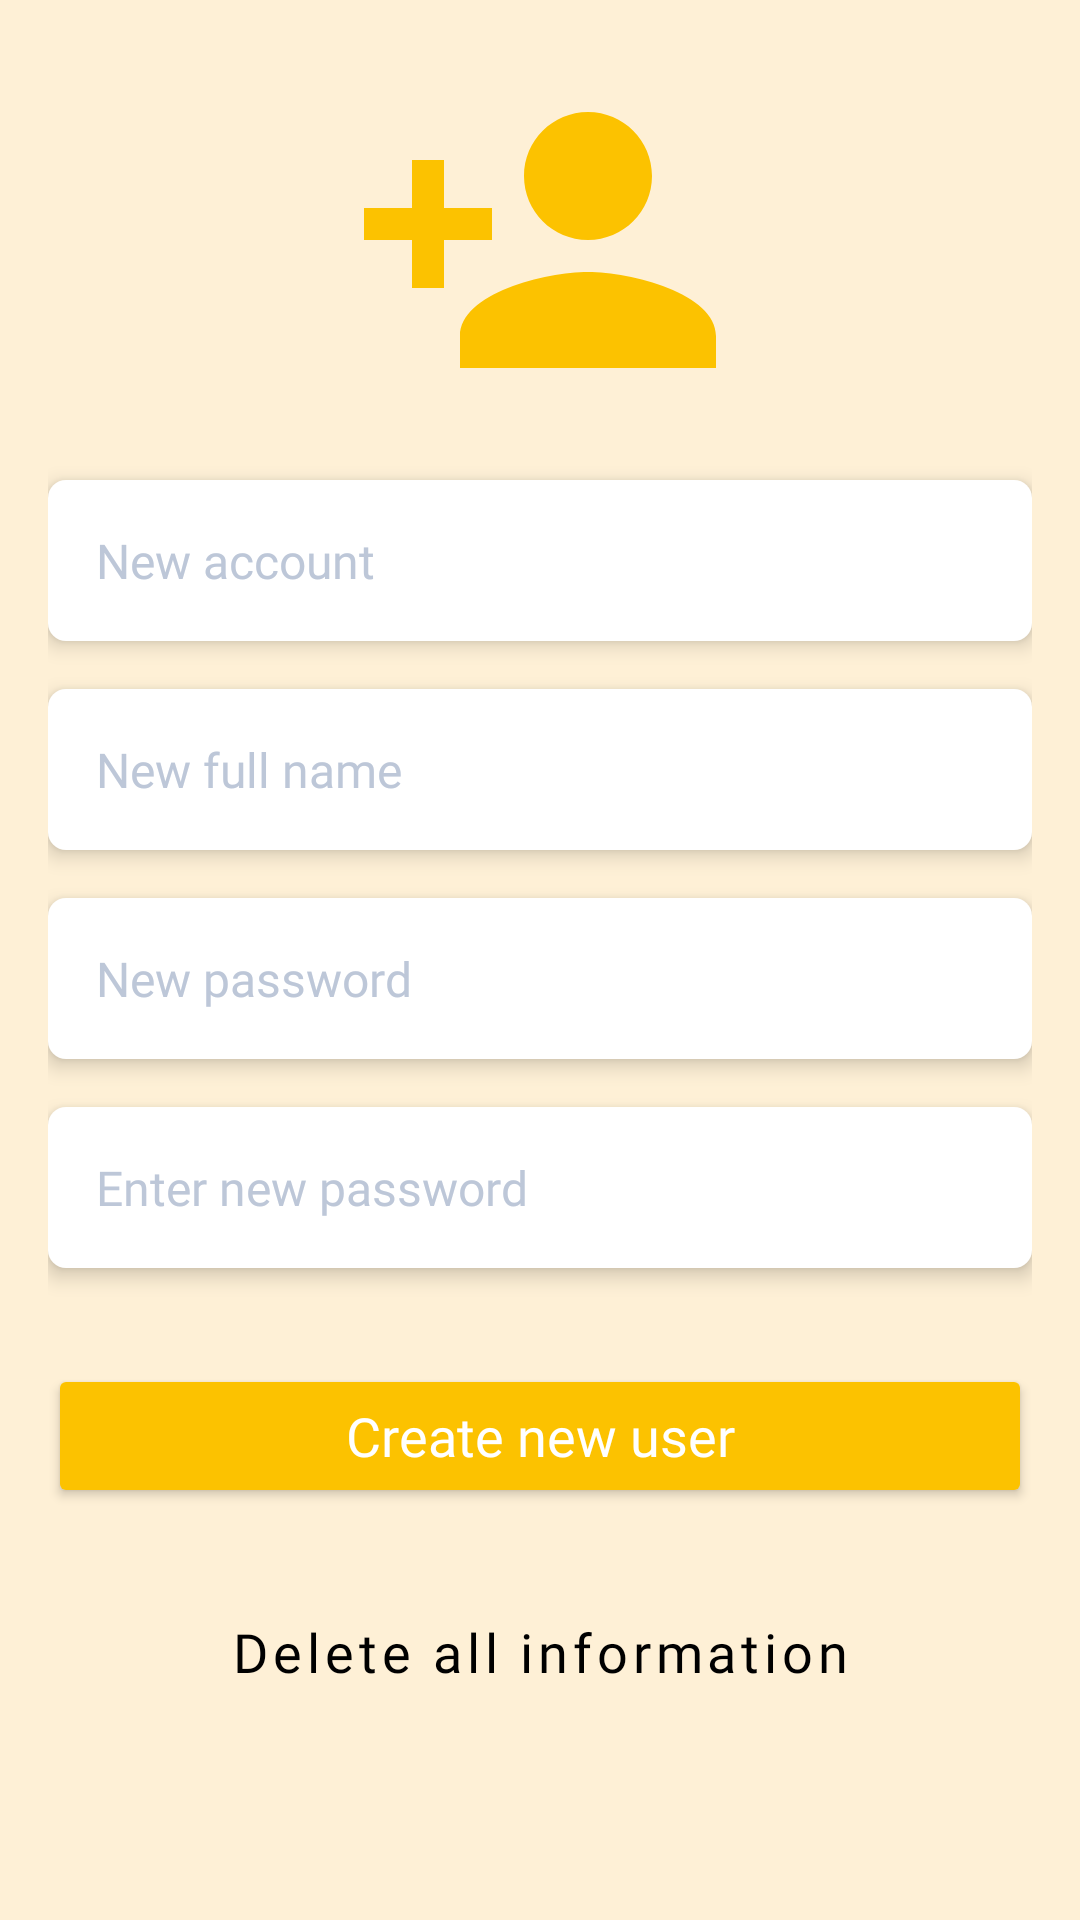

Icon click points for this 1080px x 1920px phone screenshot, format [x,y]:
person add: [540,240]
